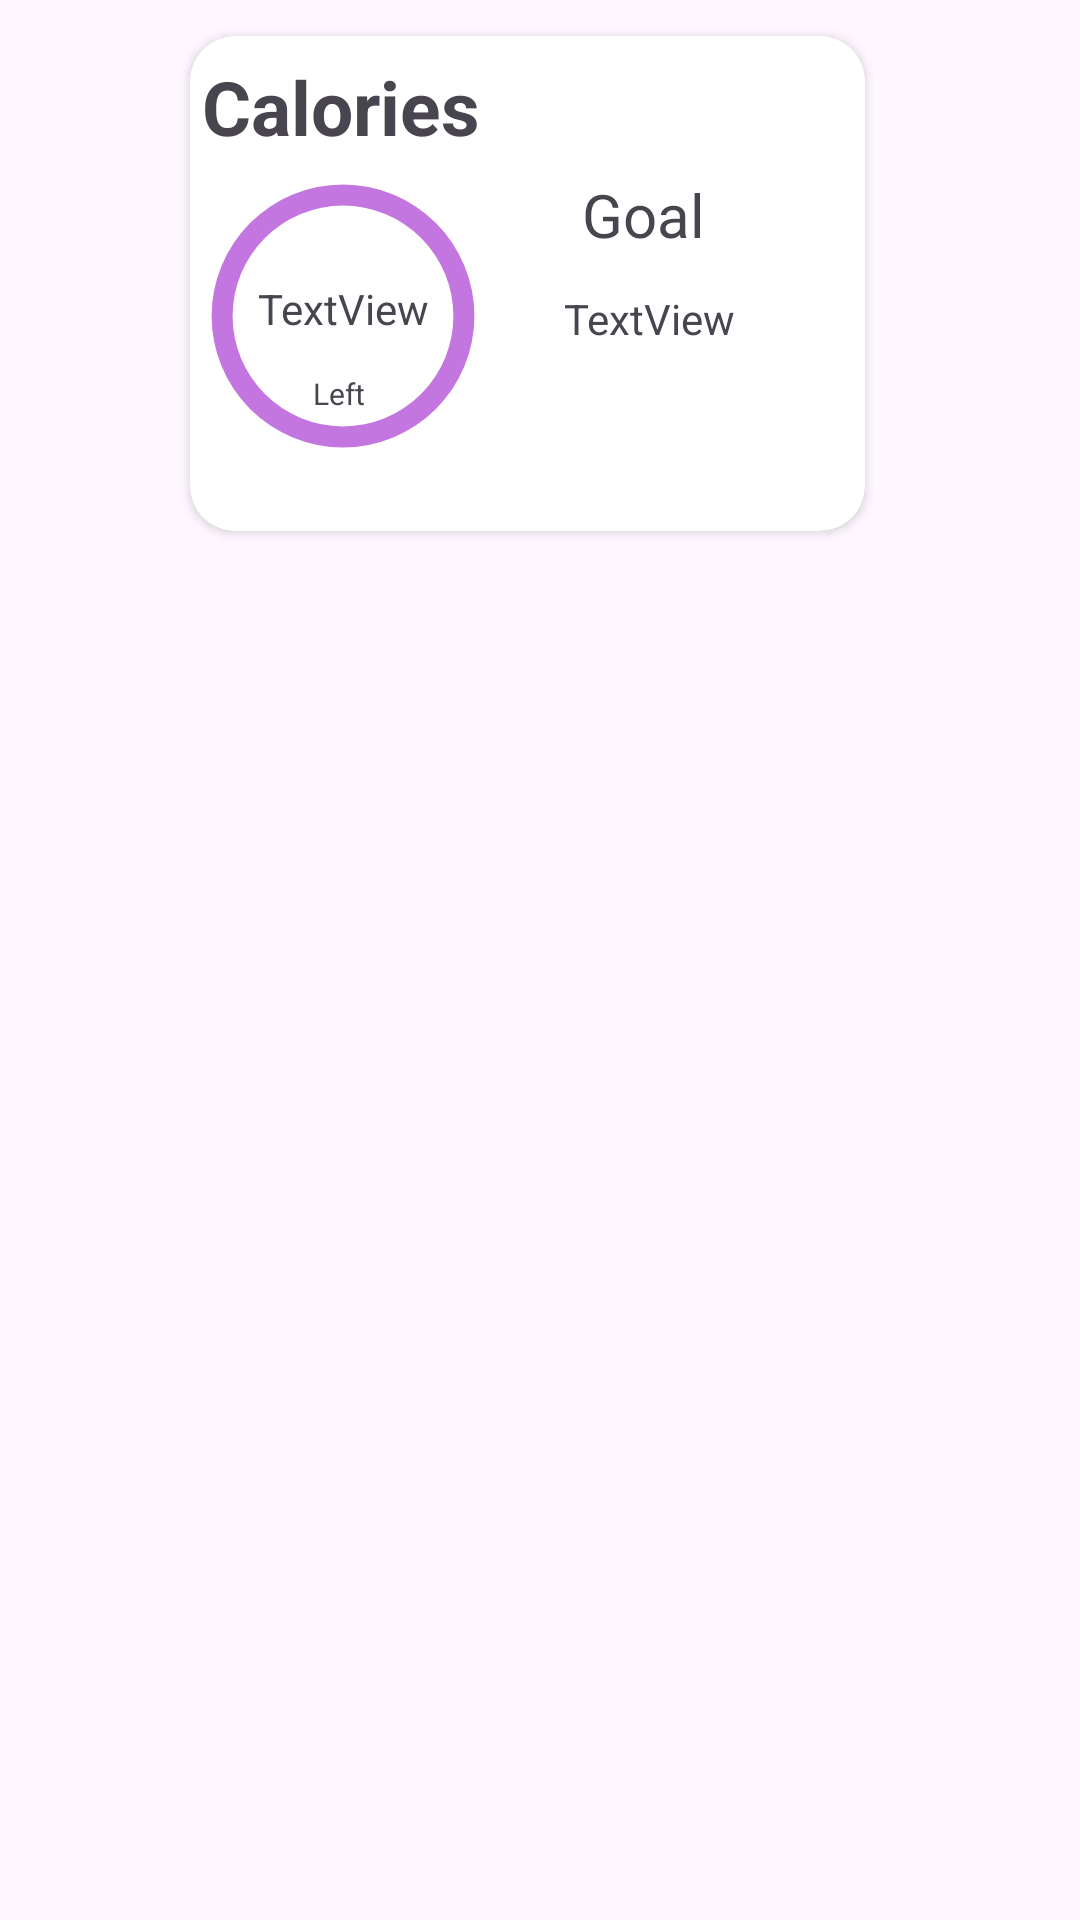

Icons on this 1080px×1920px Android screen, each with the point to tap as (x=x, y=y):
circle calorie: (x=343, y=316)
